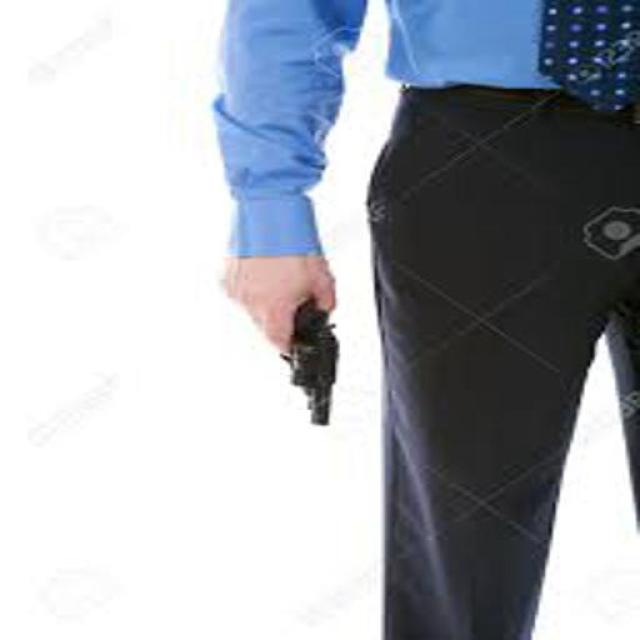pistol: (255, 290, 349, 425)
